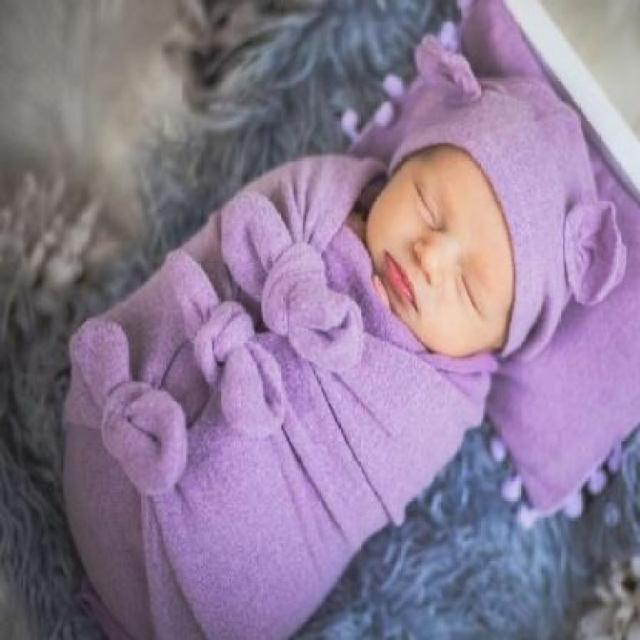baby: (54, 71, 594, 638)
